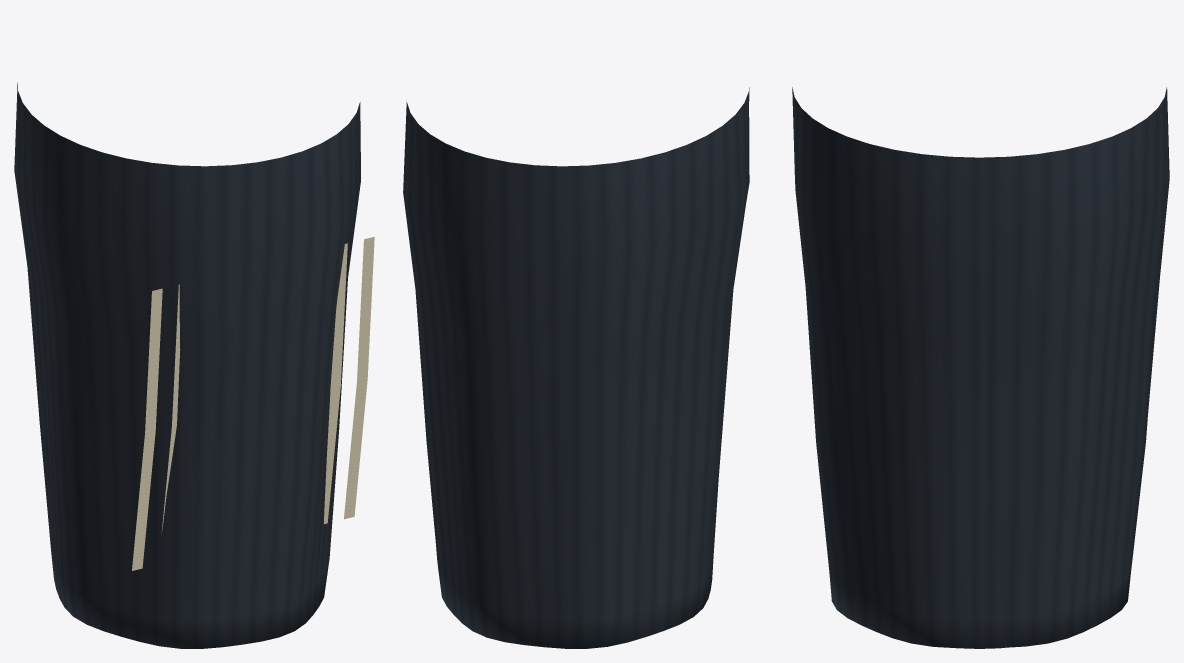
Rendered from reference_athletic_shorts.gltf.
The picture shows the model from 3 angles, left to right: view 1: azimuth 30°, elevation 25°; view 2: azimuth 150°, elevation 25°; view 3: azimuth 270°, elevation 25°; orthographic projection.
Parts seen in each view (by area): view 1: LegL, LegR; view 2: LegL; view 3: LegL.
Part boxes in pixels (bbox=[...]): LegL: bbox=[14, 82, 360, 648]; LegR: bbox=[323, 237, 374, 523]; LegL: bbox=[403, 87, 749, 648]; LegL: bbox=[792, 87, 1169, 648].
Size of the model in its own units: 0.2182 by 0.359 by 0.2397.
Materials: 2 (2 with a texture image).
